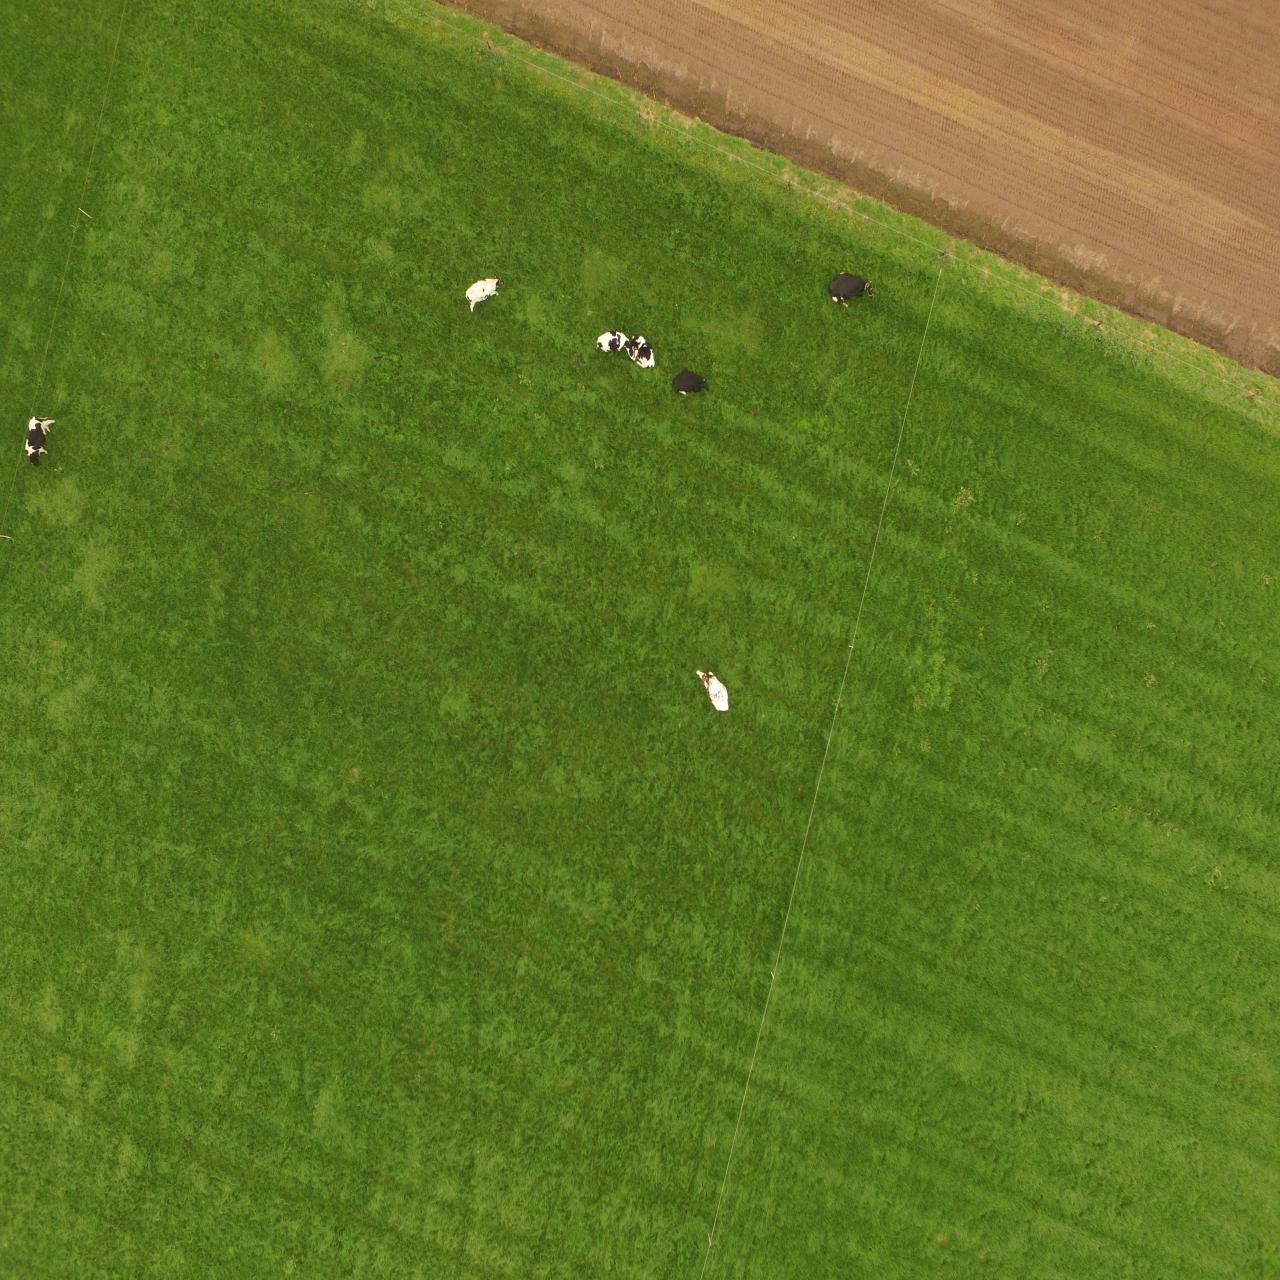cow: (828, 265, 874, 306), (694, 667, 734, 715), (25, 411, 56, 470), (463, 272, 506, 313), (672, 369, 710, 400), (588, 332, 629, 359), (631, 334, 659, 373)
